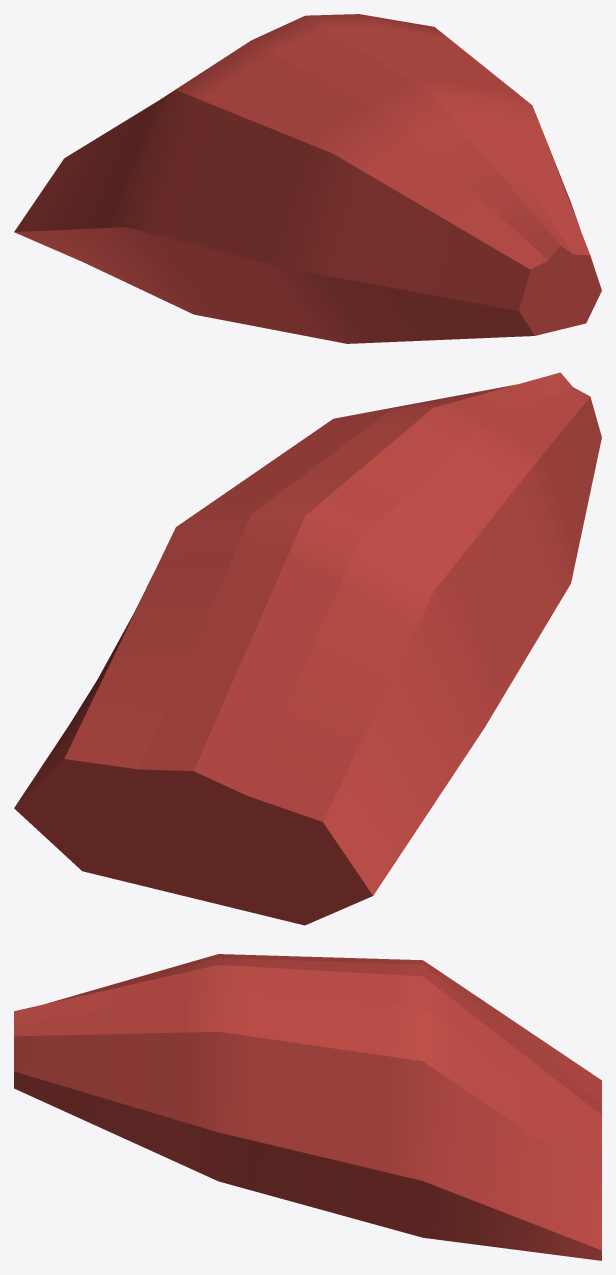
Rendered from racing.glb.
The picture shows the model from 3 angles, top to bottom: view 1: azimuth 30°, elevation 25°; view 2: azimuth 150°, elevation 25°; view 3: azimuth 270°, elevation 25°; orthographic projection. The views are drawn at different scales.
Visible parts, largest first — view 1: lod0; view 2: lod0; view 3: lod0.
Part boxes in pixels (box(x1,y1,x2,y2)): lod0: box(14, 14, 601, 343); lod0: box(14, 372, 601, 925); lod0: box(14, 954, 601, 1260).
Size of what is drawn, in the model's own units: 0.26 by 0.218 by 0.46.
